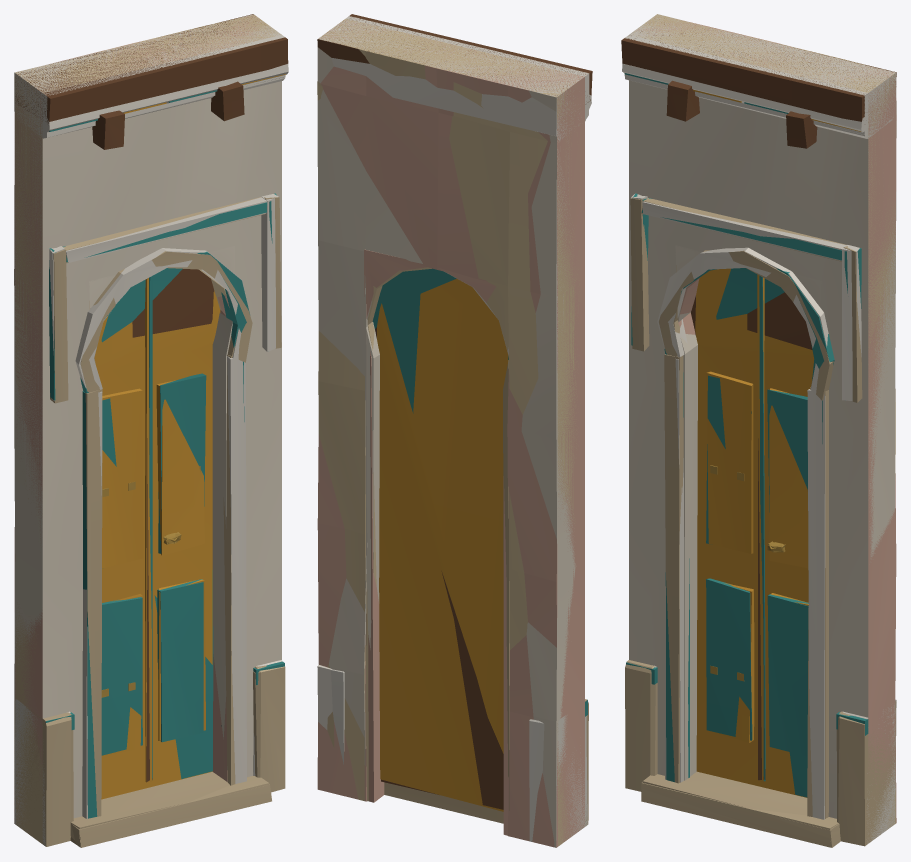
The model's file is wall.door.glb.
3 renders of one model, left to right at view 1: azimuth 30°, elevation 25°; view 2: azimuth 150°, elevation 25°; view 3: azimuth 330°, elevation 25°, orthographic.
Visible parts, largest first — view 1: wall.door.v2.mesh, wall.door.v1.mesh, wall.door.v0.mesh; view 2: wall.door.v2.mesh, wall.door.v1.mesh, wall.door.v0.mesh; view 3: wall.door.v2.mesh, wall.door.v1.mesh, wall.door.v0.mesh.
Boxes of the visible parts, x1,y1,x2,y2 form: wall.door.v2.mesh: [14, 14, 288, 847]; wall.door.v1.mesh: [14, 15, 285, 847]; wall.door.v0.mesh: [14, 14, 288, 846]; wall.door.v2.mesh: [317, 14, 592, 847]; wall.door.v1.mesh: [317, 16, 589, 847]; wall.door.v0.mesh: [317, 16, 591, 846]; wall.door.v2.mesh: [621, 14, 896, 847]; wall.door.v1.mesh: [624, 15, 896, 847]; wall.door.v0.mesh: [622, 14, 896, 831].
Size of the model in its own units: 0.9999 by 3 by 0.303.
